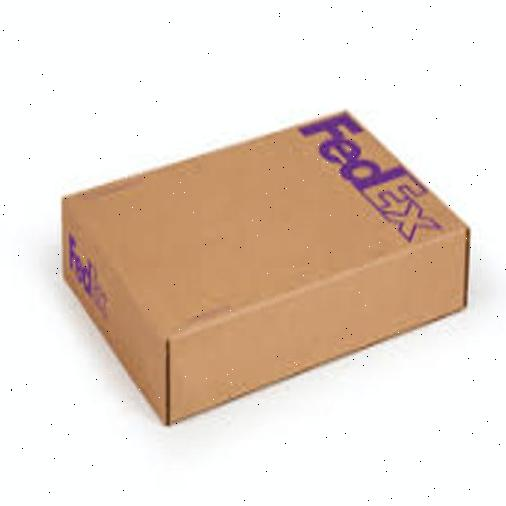FedEx: (58, 110, 484, 427)
